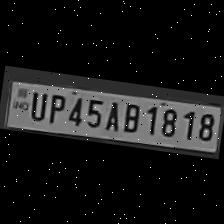1: (138, 100, 160, 136), (176, 106, 198, 141)
4: (63, 91, 85, 126)
5: (81, 94, 105, 129)
8: (156, 104, 181, 138), (193, 107, 217, 141)
A: (101, 96, 124, 132)
B: (118, 98, 143, 134)
P: (44, 88, 68, 124)
U: (26, 86, 49, 120)
